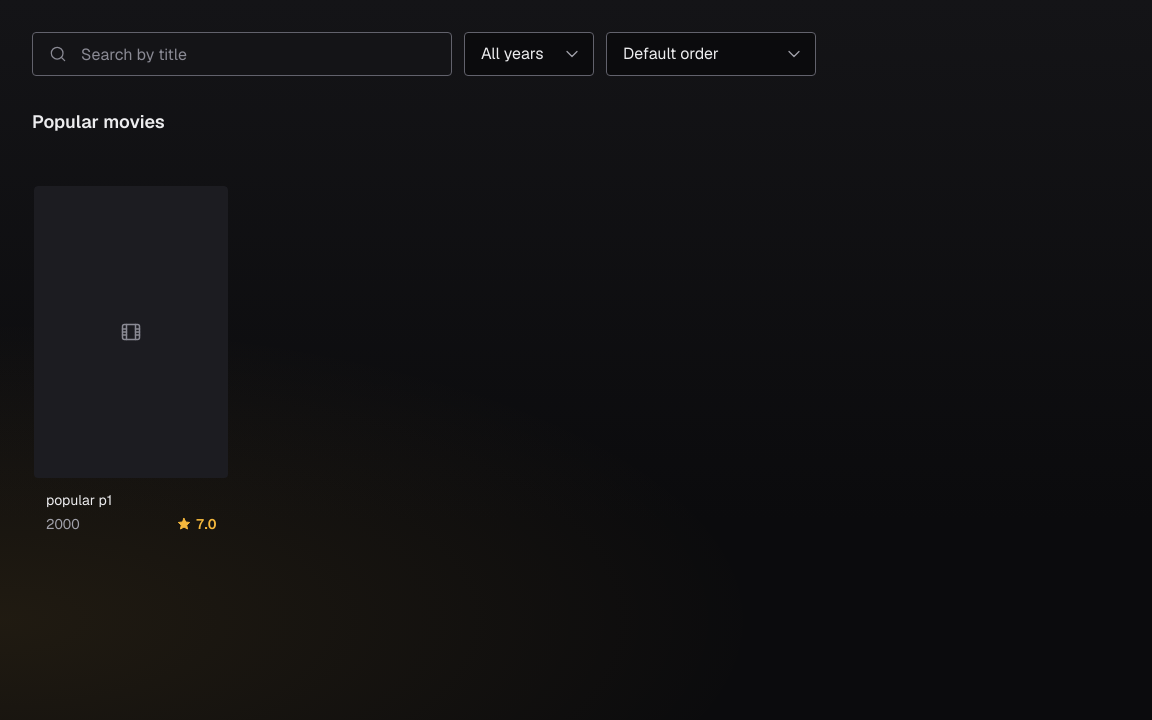
ExplorerClient — degraded genres and keyboard › keeps year, sort and search operable when genres is empty (RF-21)
Expected: the heading "popular p1" is shown, [46, 491, 112, 509]
Select "1999" in the 1st dropdown named "Year" at (529, 54), box [464, 32, 594, 76]
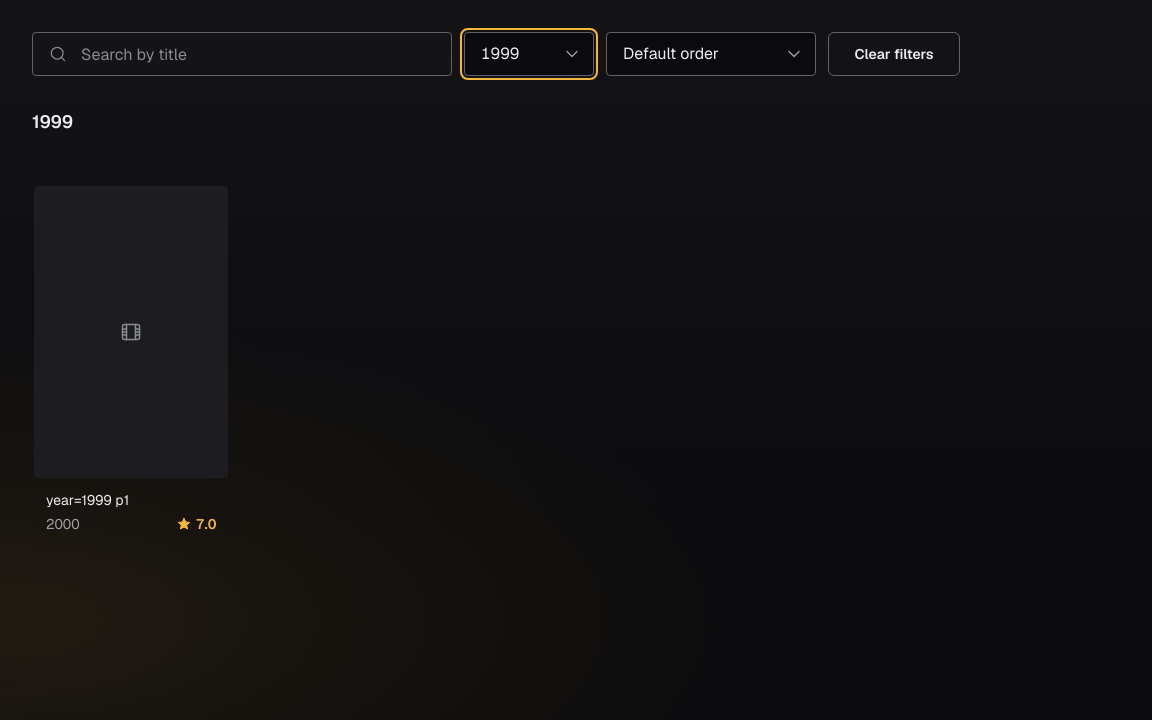
Select "Newest first" in the 2nd dropdown named "Sort by" at (711, 54), box [606, 32, 816, 76]
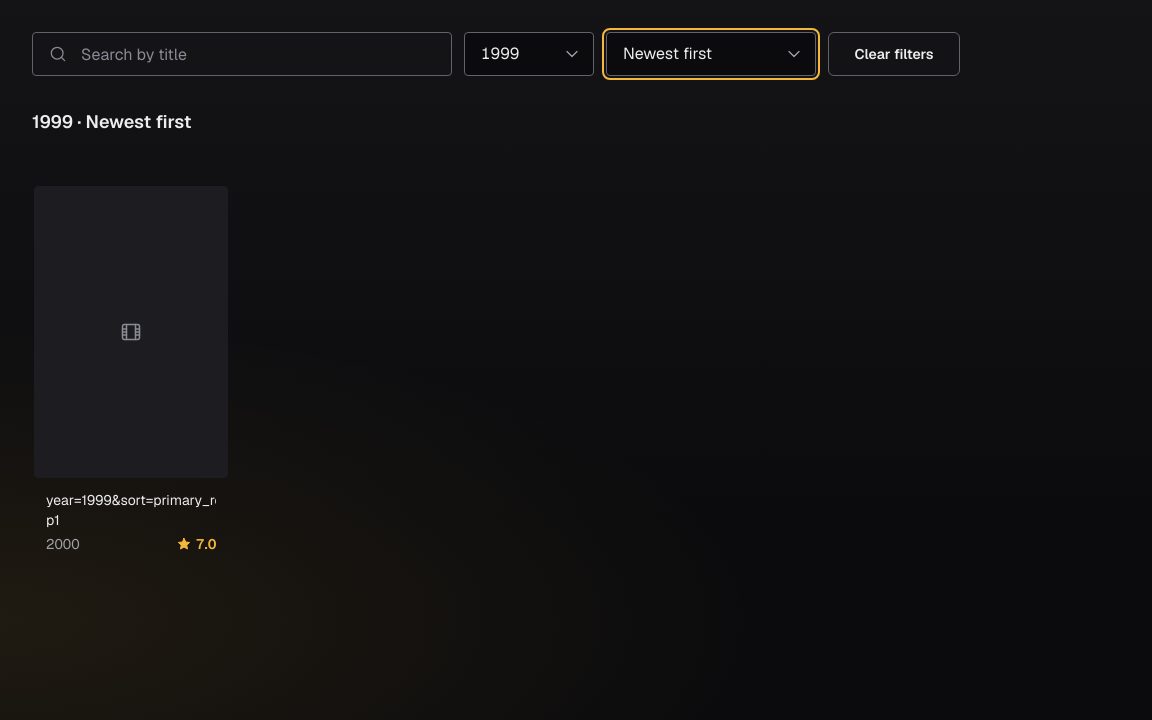
Type "matrix" into the field named "Search movies" at (242, 54), box [32, 32, 452, 76]
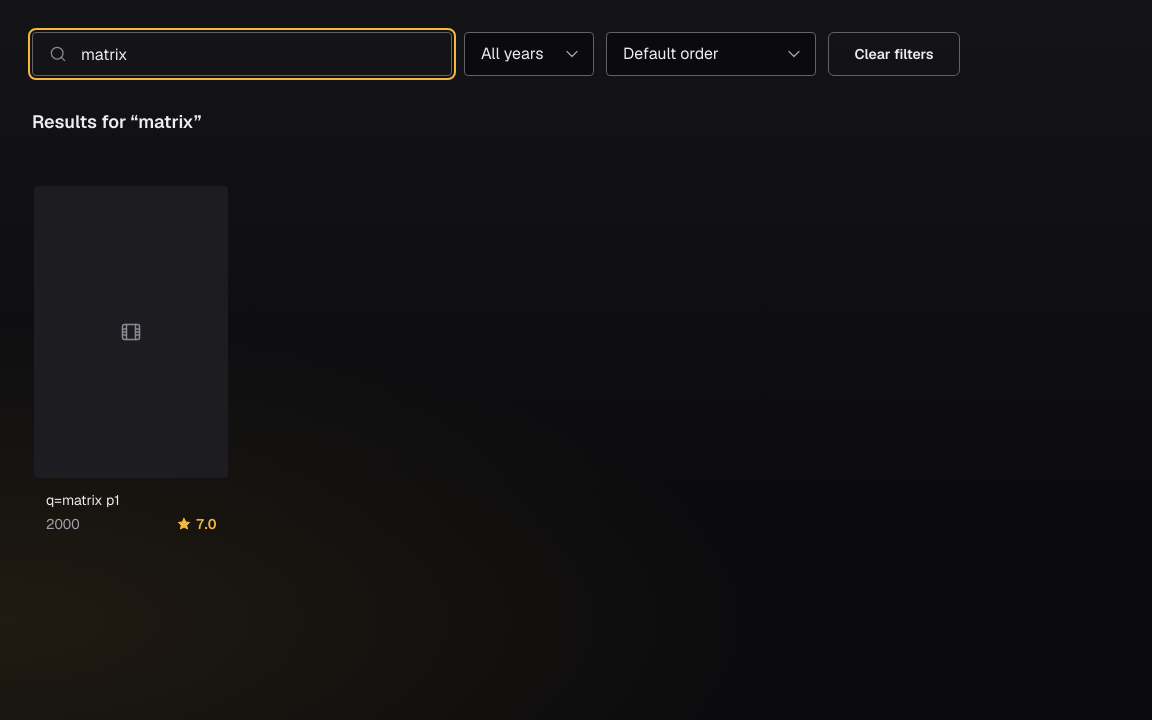
Expected: the heading "q=matrix p1" is shown, [46, 491, 120, 509]
